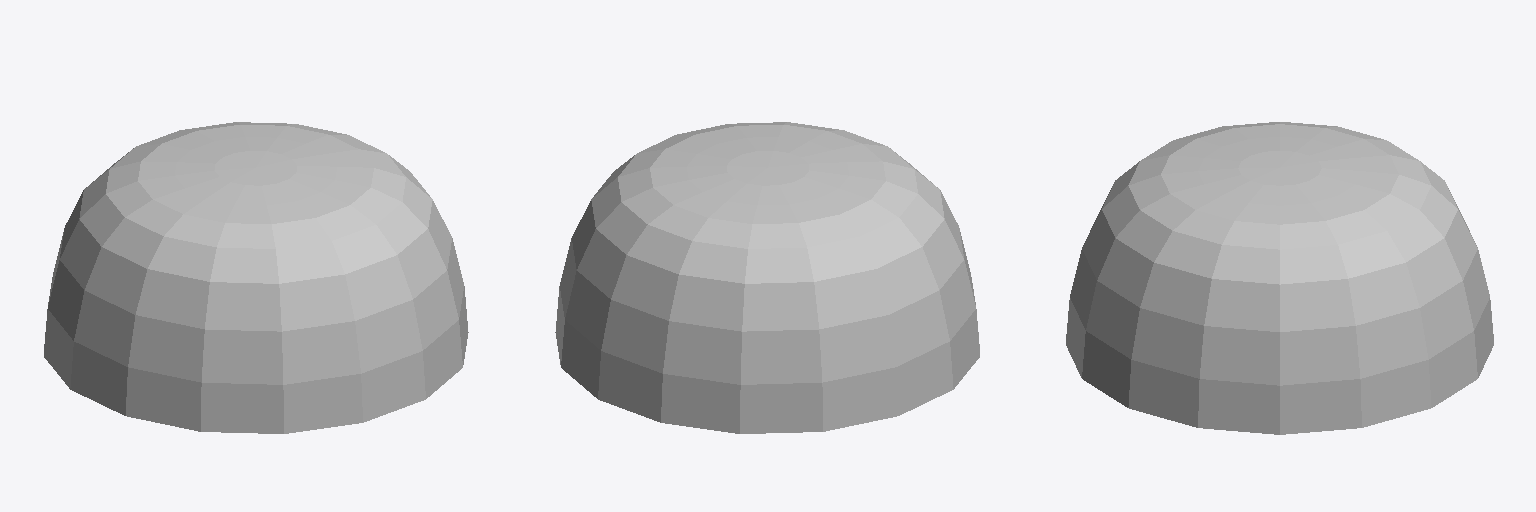
The model's file is eruption.obj.
The picture shows the model from 3 angles: view 1: azimuth 30°, elevation 25°; view 2: azimuth 150°, elevation 25°; view 3: azimuth 270°, elevation 25°; orthographic projection.
Visible parts, largest first — view 1: Sphere; view 2: Sphere; view 3: Sphere.
Part boxes in pixels (x1,y1,x2,y2): Sphere: (44, 122, 468, 433); Sphere: (555, 122, 979, 433); Sphere: (1066, 122, 1493, 434).
Size of the model in its own units: 2 by 0.9102 by 2.